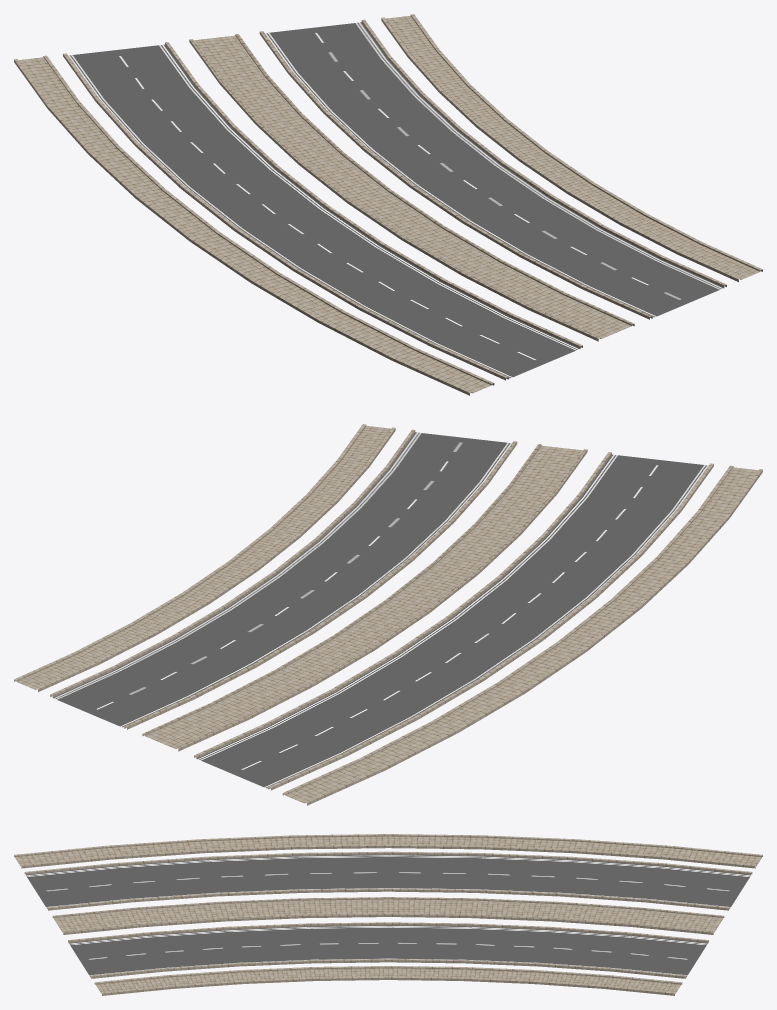
File: Street2LanesTurn30Deg.FBX
3 views of the same model, one above another, from view 1: azimuth 30°, elevation 25°; view 2: azimuth 150°, elevation 25°; view 3: azimuth 270°, elevation 25° (orthographic). The views are drawn at different scales.
Parts seen in each view (by area): view 1: Street2LanesTurn30Deg; view 2: Street2LanesTurn30Deg; view 3: Street2LanesTurn30Deg.
Part boxes in pixels (bbox=[...]): Street2LanesTurn30Deg: bbox=[14, 14, 762, 395]; Street2LanesTurn30Deg: bbox=[14, 424, 762, 805]; Street2LanesTurn30Deg: bbox=[14, 834, 762, 995].
Bounding box in the file's own units: 45.21 × 0.3 × 89.62.
2 materials, 2 textured.
